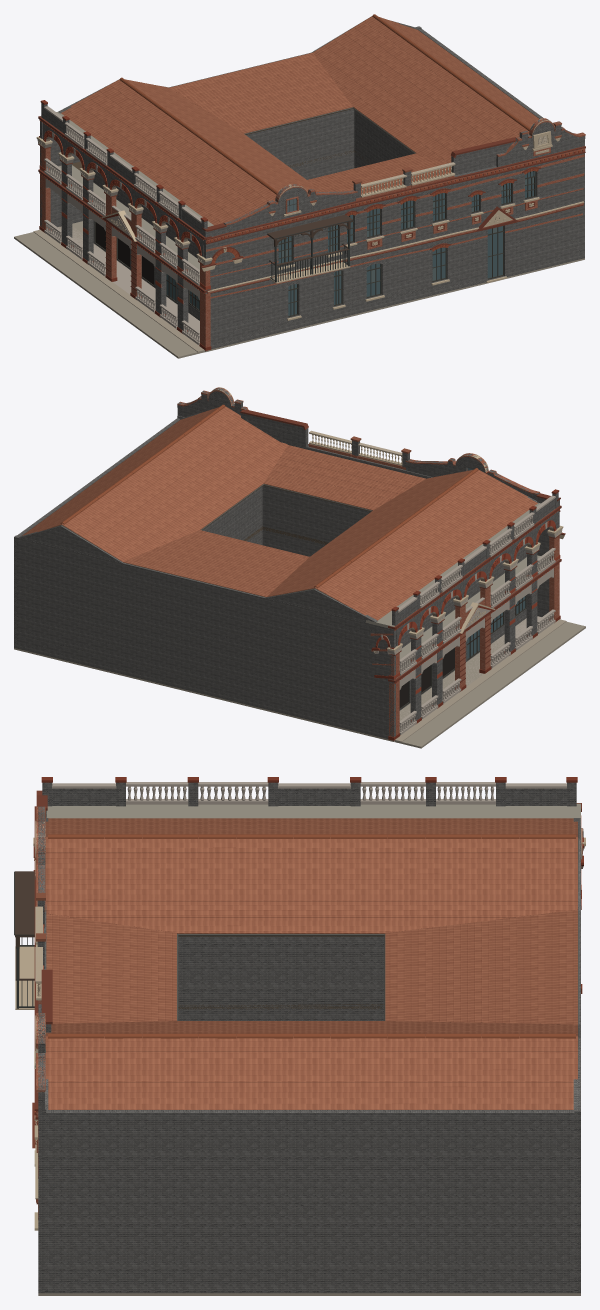
The model's file is putuo-nanlin-normal-school-brick-villa-lod.glb.
The picture shows the model from 3 angles, top to bottom: view 1: azimuth 30°, elevation 25°; view 2: azimuth 150°, elevation 25°; view 3: azimuth 270°, elevation 25°; orthographic projection. The views are drawn at different scales.
Parts seen in each view (by area): view 1: 原南林师范学校旧址（陈楚湘住宅旧址）; view 2: 原南林师范学校旧址（陈楚湘住宅旧址）; view 3: 原南林师范学校旧址（陈楚湘住宅旧址）.
Boxes of the visible parts, x1,y1,x2,y2 form: 原南林师范学校旧址（陈楚湘住宅旧址）: (14, 14, 585, 358); 原南林师范学校旧址（陈楚湘住宅旧址）: (14, 387, 585, 748); 原南林师范学校旧址（陈楚湘住宅旧址）: (14, 777, 585, 1295).
Bounding box in the file's own units: 31.61 × 11.15 × 23.5.
30 materials, 3 textured.
